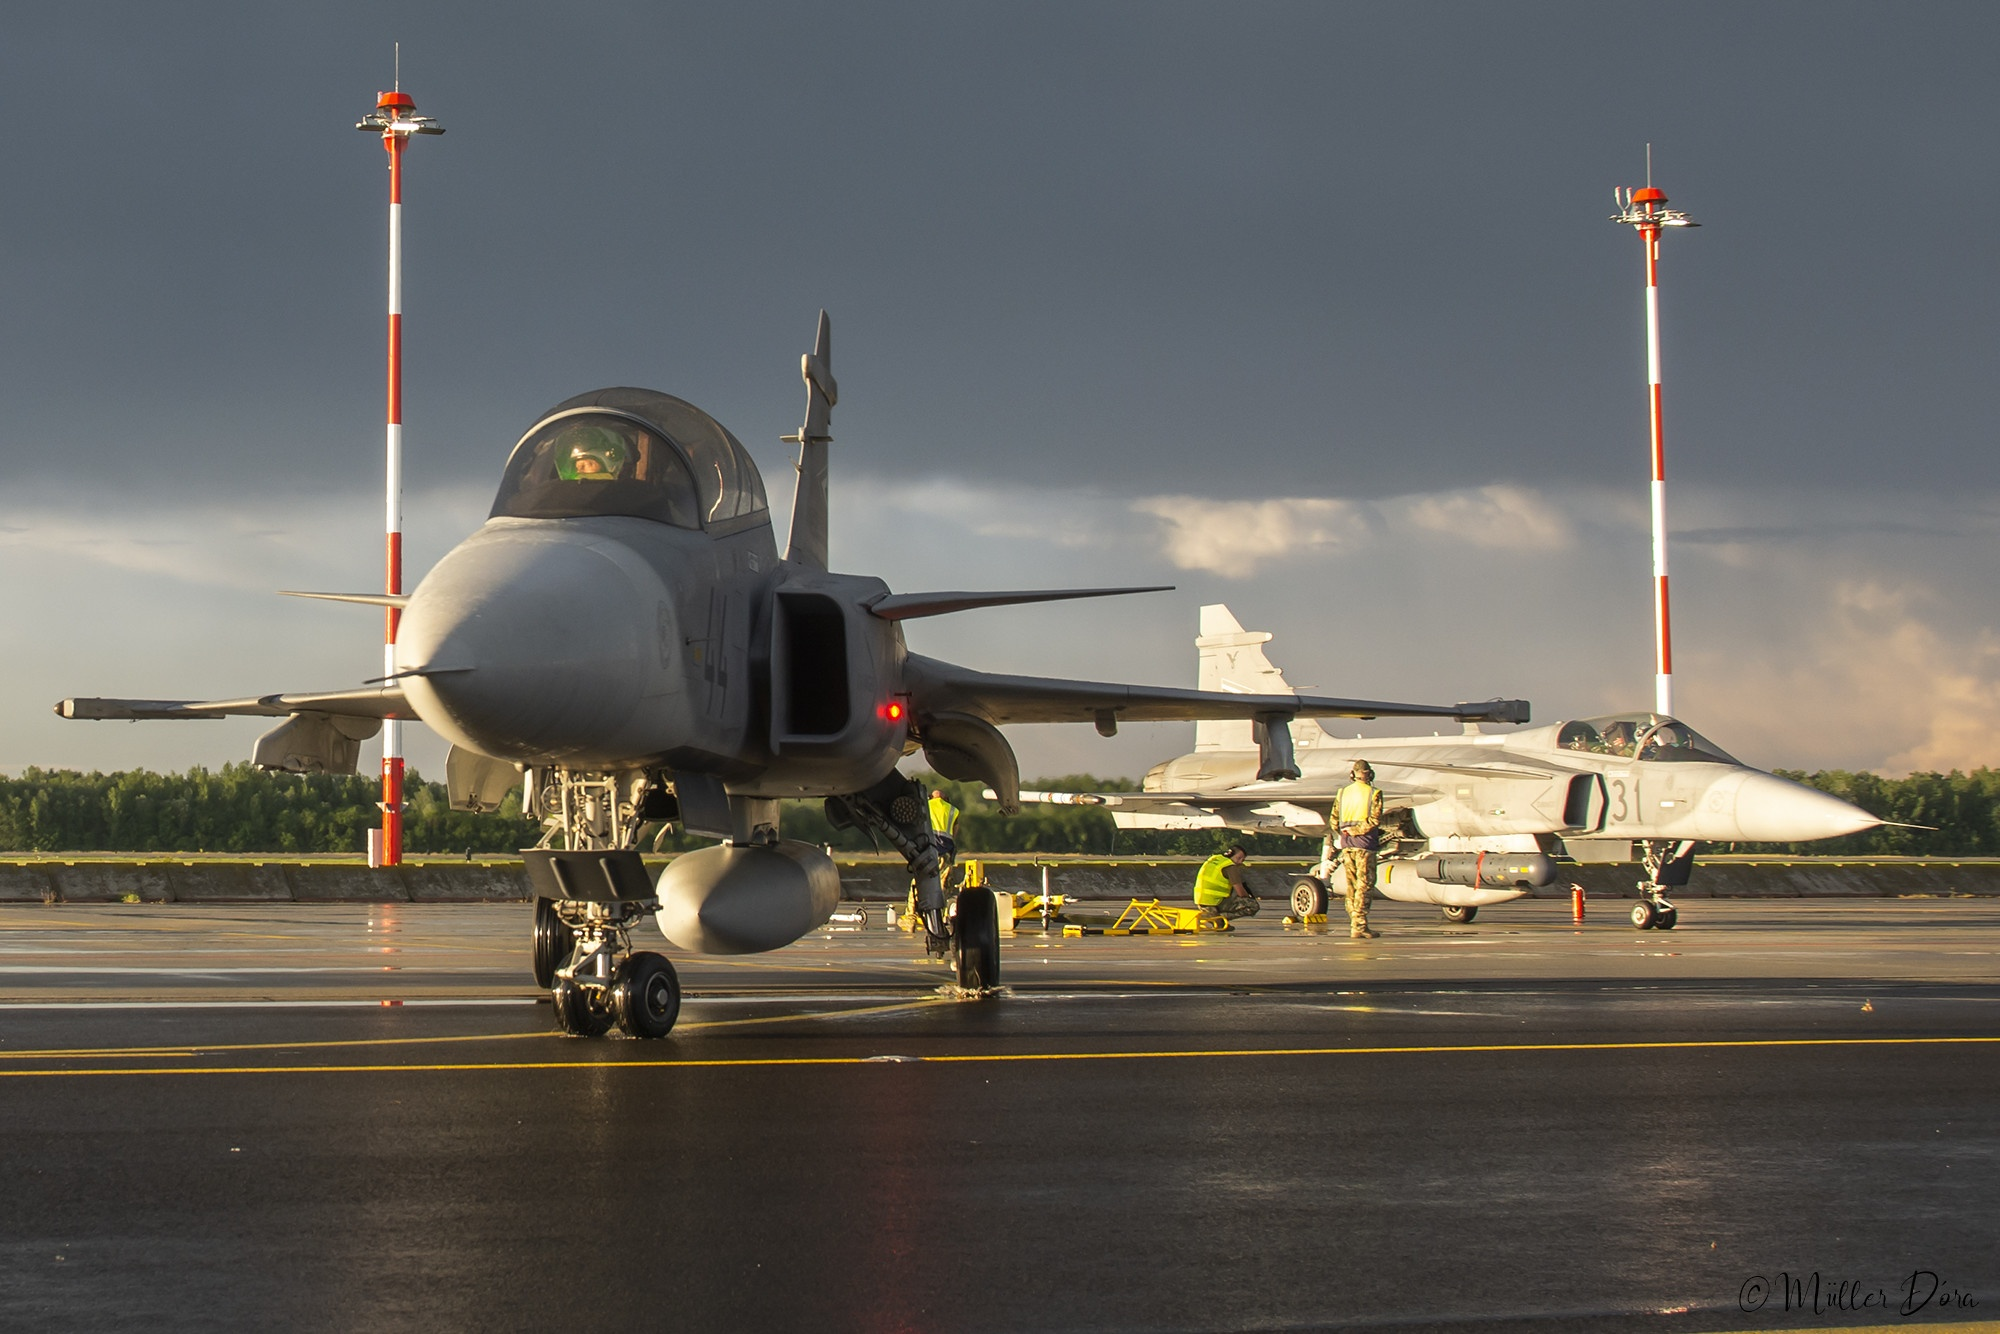JAS39: (52, 308, 1531, 1035), (982, 603, 1939, 929)
